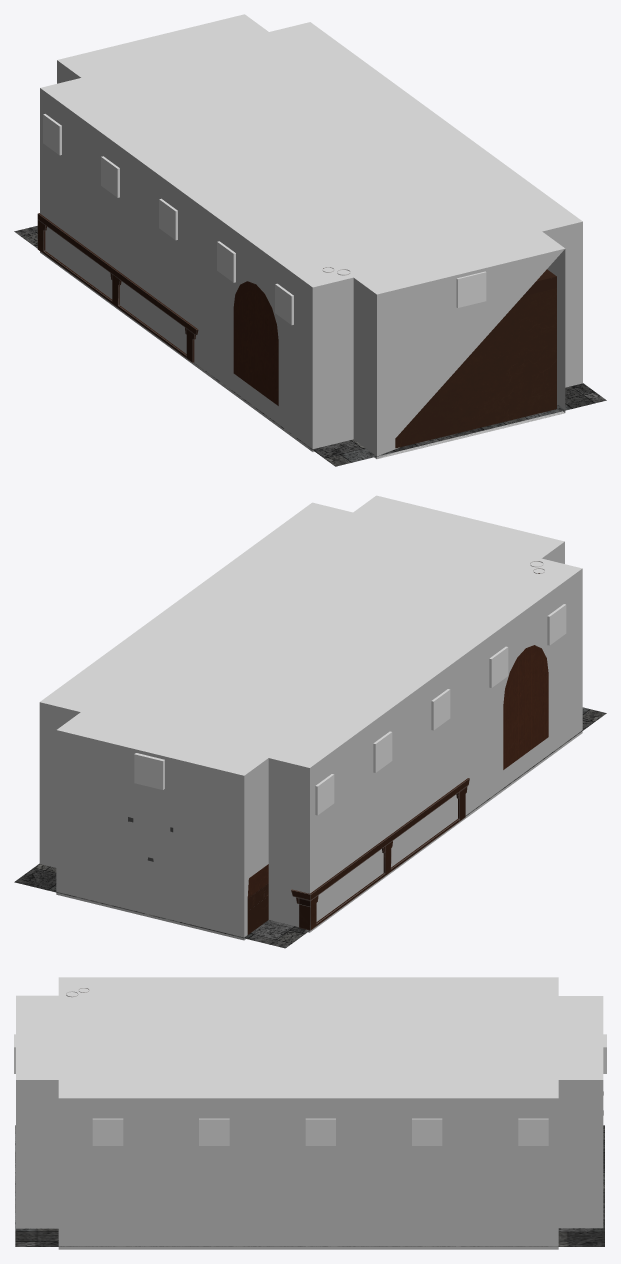
The model's file is eviler_room.fbx.
3 renders of one model, top to bottom at view 1: azimuth 30°, elevation 25°; view 2: azimuth 150°, elevation 25°; view 3: azimuth 270°, elevation 25°, orthographic. The views are drawn at different scales.
Visible parts, largest first — view 1: walls.001, walls, shelf, door, roofbeams, floor, sidedesk; view 2: walls.001, walls, door, roofbeams, sidedesk, floor, docdesk; view 3: walls, walls.001, roofbeams, floor.
Part boxes in pixels (box(x1,y1,x2,y2)): walls.001: box(40, 14, 582, 294); walls: box(40, 60, 582, 458); shelf: box(395, 269, 556, 448); door: box(233, 281, 278, 405); roofbeams: box(43, 114, 486, 324); floor: box(14, 226, 606, 466); sidedesk: box(37, 213, 198, 362); walls.001: box(40, 495, 582, 775); walls: box(39, 541, 582, 940); door: box(503, 645, 548, 769); roofbeams: box(134, 604, 566, 815); sidedesk: box(291, 778, 469, 930); floor: box(14, 707, 606, 948); docdesk: box(247, 864, 268, 934); walls: box(16, 1080, 603, 1249); walls.001: box(16, 977, 603, 1098); roofbeams: box(14, 1034, 606, 1145); floor: box(15, 1125, 604, 1246).
Size of the model in its own units: 226 by 130 by 460.
